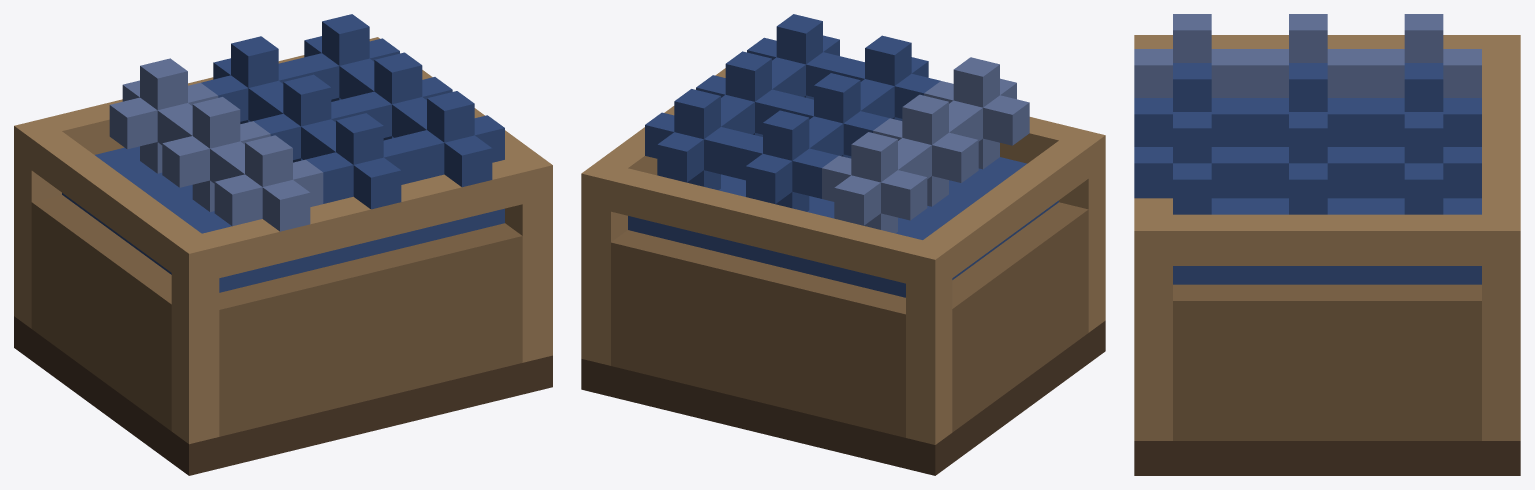
Rendered from blueberry_full.glb.
The picture shows the model from 3 angles, left to right: view 1: azimuth 30°, elevation 25°; view 2: azimuth 150°, elevation 25°; view 3: azimuth 270°, elevation 25°; orthographic projection. The views are drawn at different scales.
Visible parts, largest first — view 1: VoxelVisual; view 2: VoxelVisual; view 3: VoxelVisual.
Boxes of the visible parts, x1,y1,x2,y2 form: VoxelVisual: (14,14,552,475); VoxelVisual: (581,14,1105,475); VoxelVisual: (1134,14,1520,475).
Size of what is drawn, in the model's own units: 0.75 by 0.5625 by 0.625.
